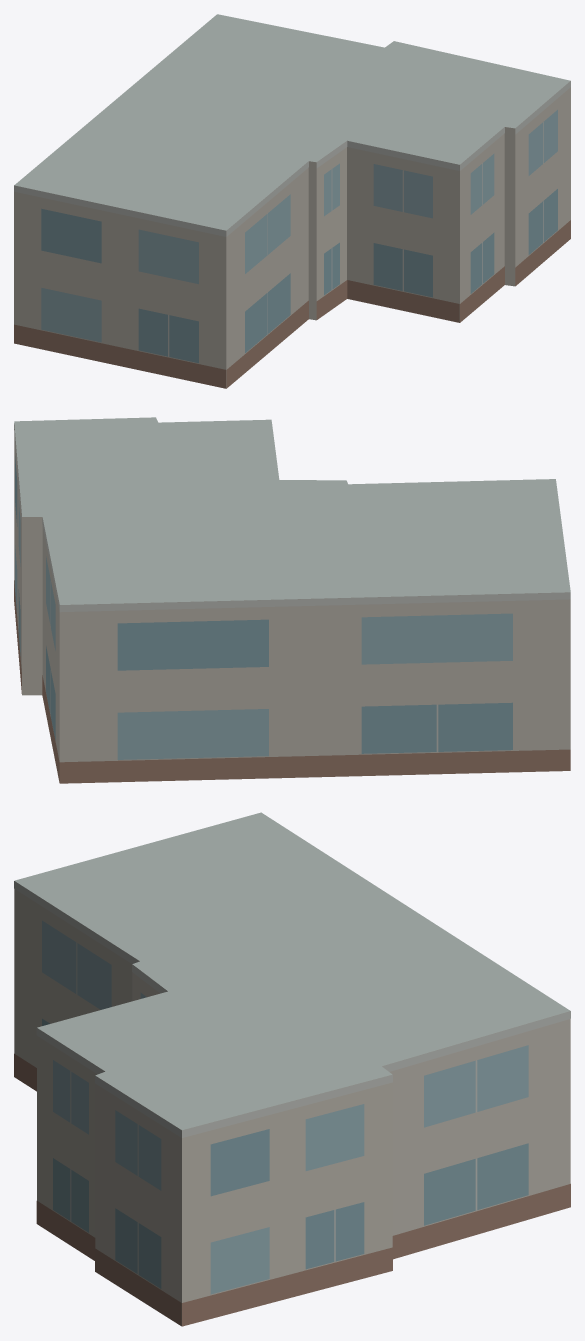
File: survey-upis-32625327.glb
3 views of the same model, one above another, from view 1: azimuth 30°, elevation 25°; view 2: azimuth 150°, elevation 25°; view 3: azimuth 270°, elevation 25° (orthographic). The views are drawn at different scales.
Visible parts, largest first — view 1: survey-upis-32625327.tmp; view 2: survey-upis-32625327.tmp; view 3: survey-upis-32625327.tmp.
Boxes of the visible parts, bbox=[...] form: survey-upis-32625327.tmp: bbox=[14, 14, 570, 388]; survey-upis-32625327.tmp: bbox=[14, 417, 570, 783]; survey-upis-32625327.tmp: bbox=[14, 812, 570, 1326].
Size of the model in its own units: 21.2 by 6.1 by 15.69.
